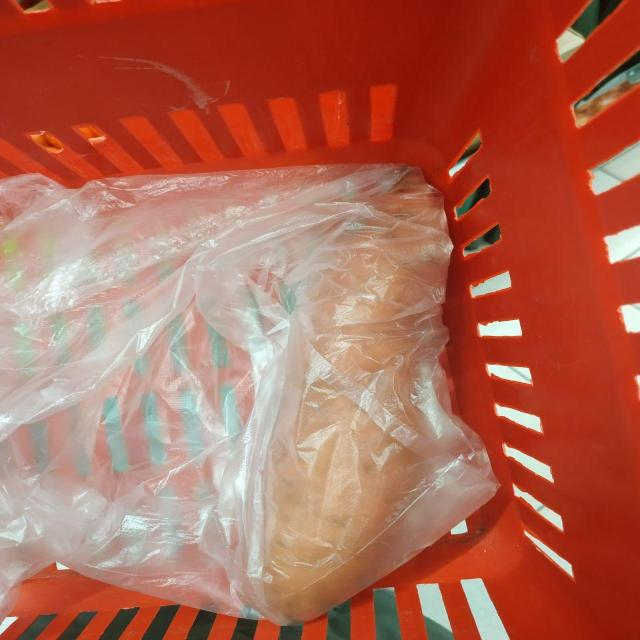Carrot: (263, 222, 447, 620)
